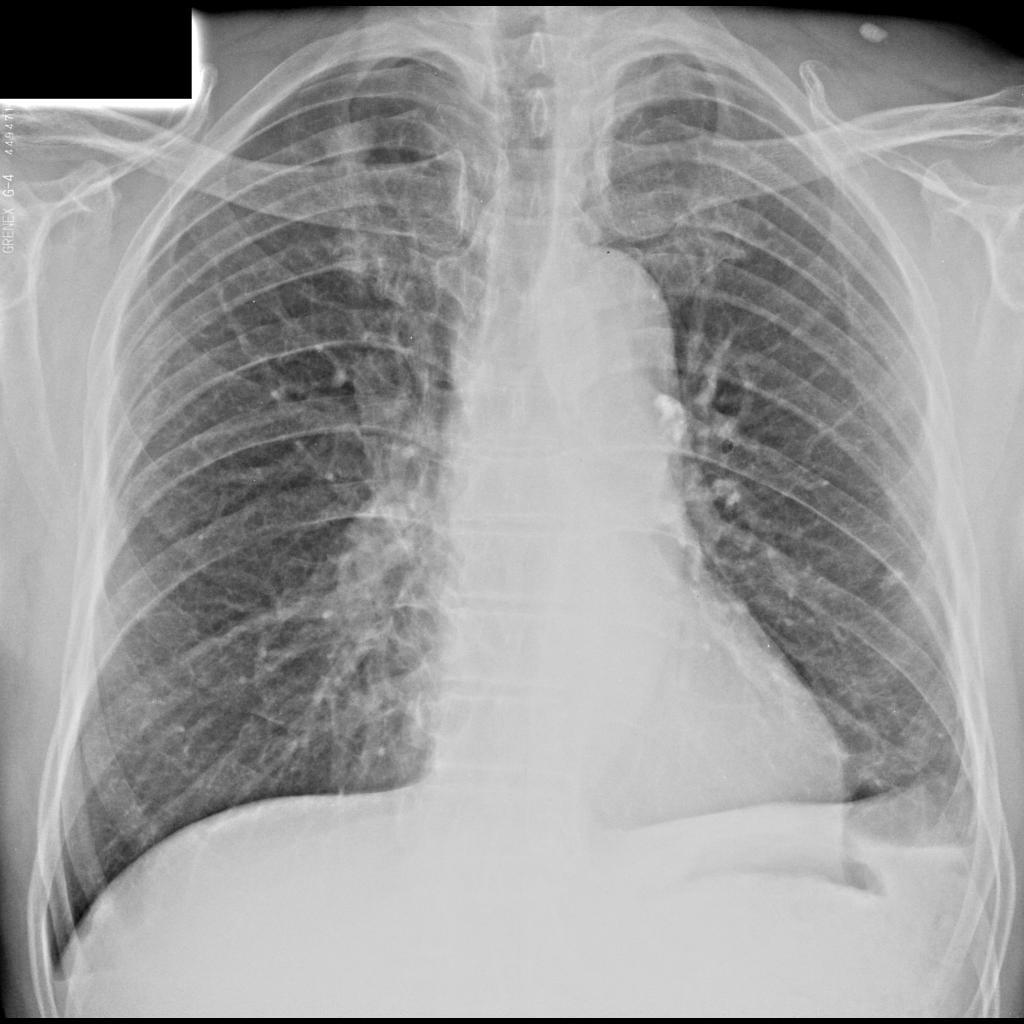Nodule: (324, 123, 371, 170)
